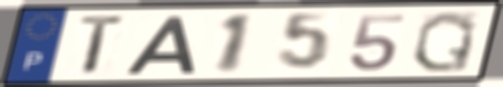1: (213, 12, 257, 76)
5: (347, 13, 410, 73), (278, 10, 335, 75)
A: (122, 14, 198, 75)
Q: (409, 9, 480, 75)
T: (76, 13, 130, 78)
